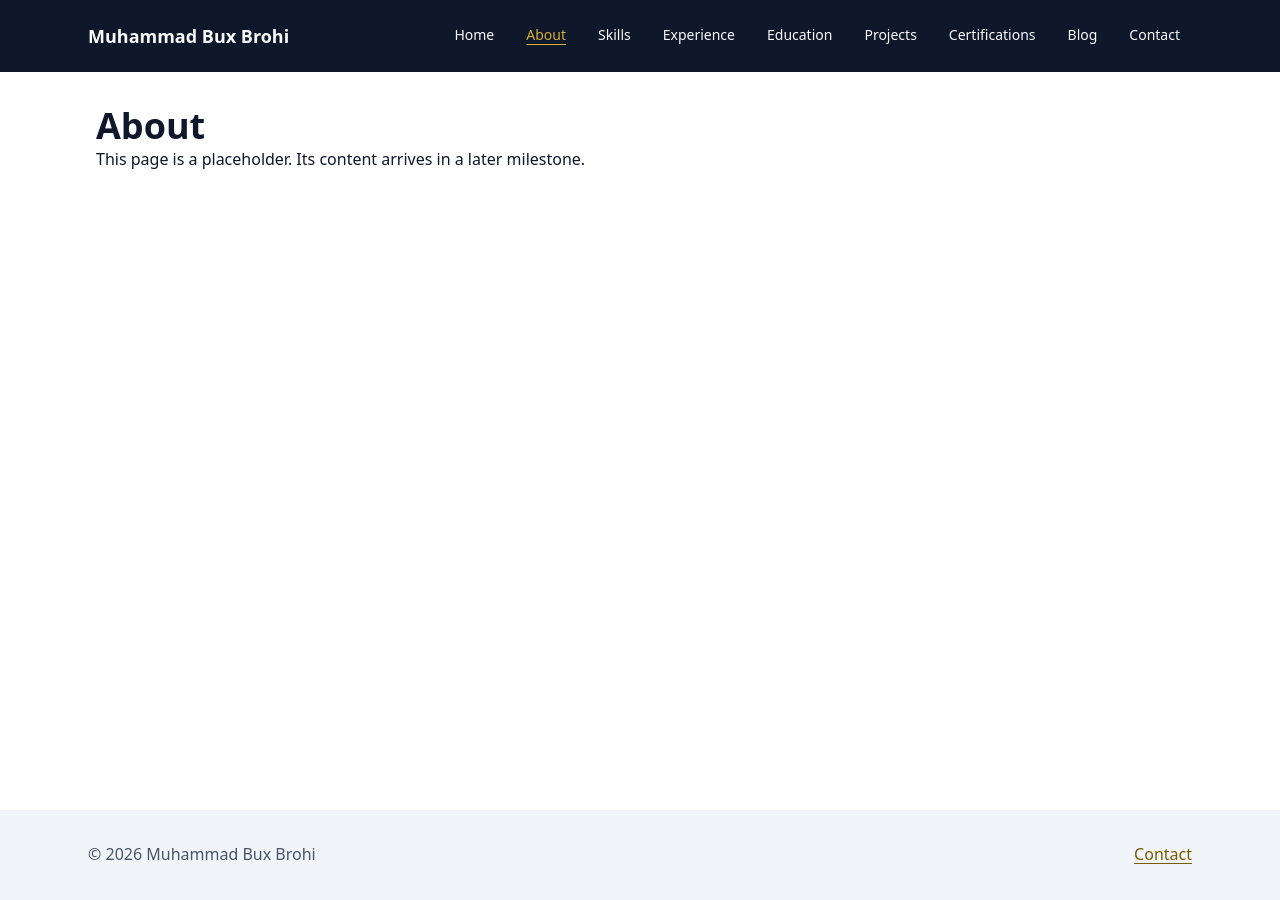
Test case: layouts in the routes › keeps the layout mounted while moving between pages, so menu focus is not lost
The width and height of the screenshot is (1280, 900).
Check: the heading "About" is shown, box [96, 101, 205, 150]
Step 1. Click the link "Skills" → {"x": 614, "y": 34}, box [598, 25, 631, 44]
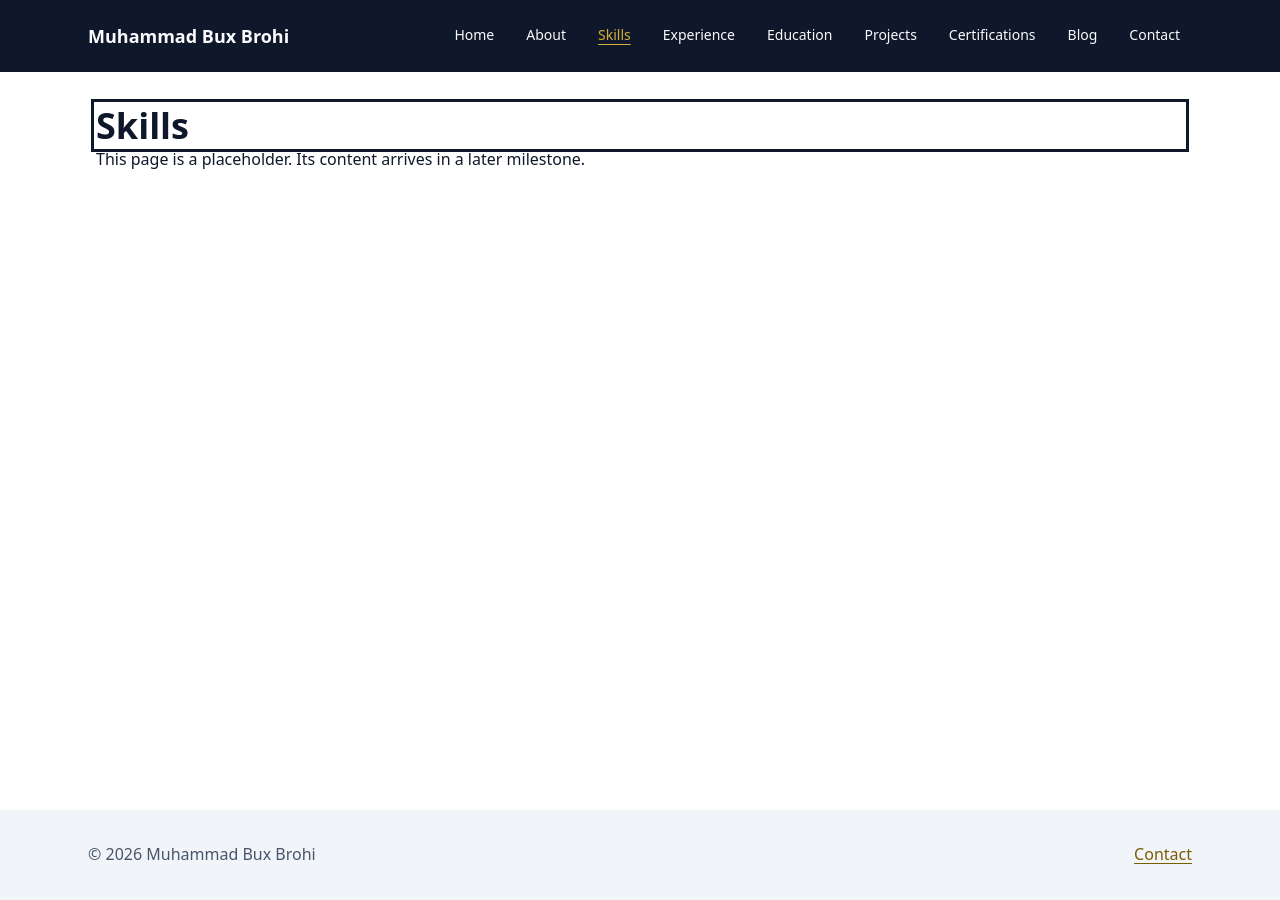
Check: the heading "Skills" is shown, box [96, 101, 189, 150]
